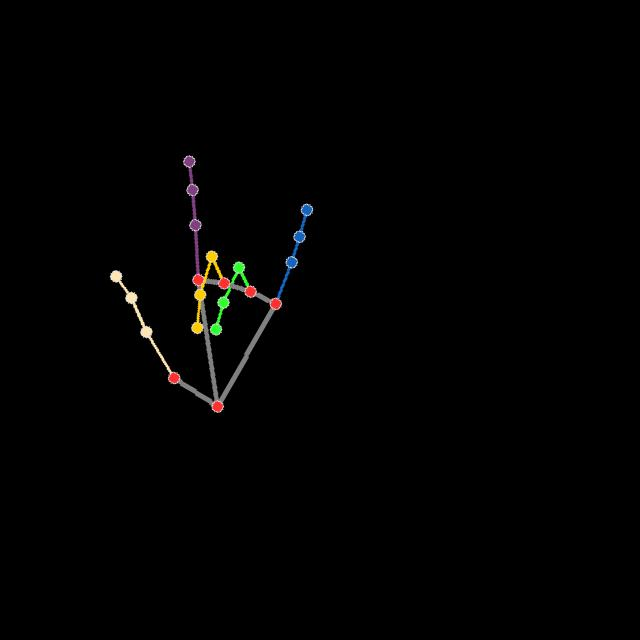spiderman: (106, 148, 316, 417)
